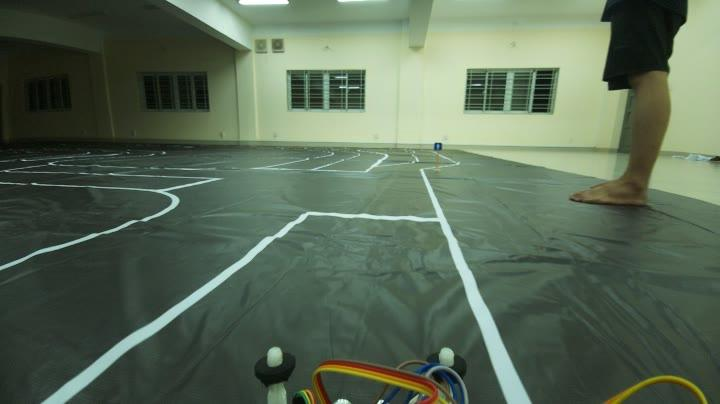onewayroad: (432, 139, 445, 155)
